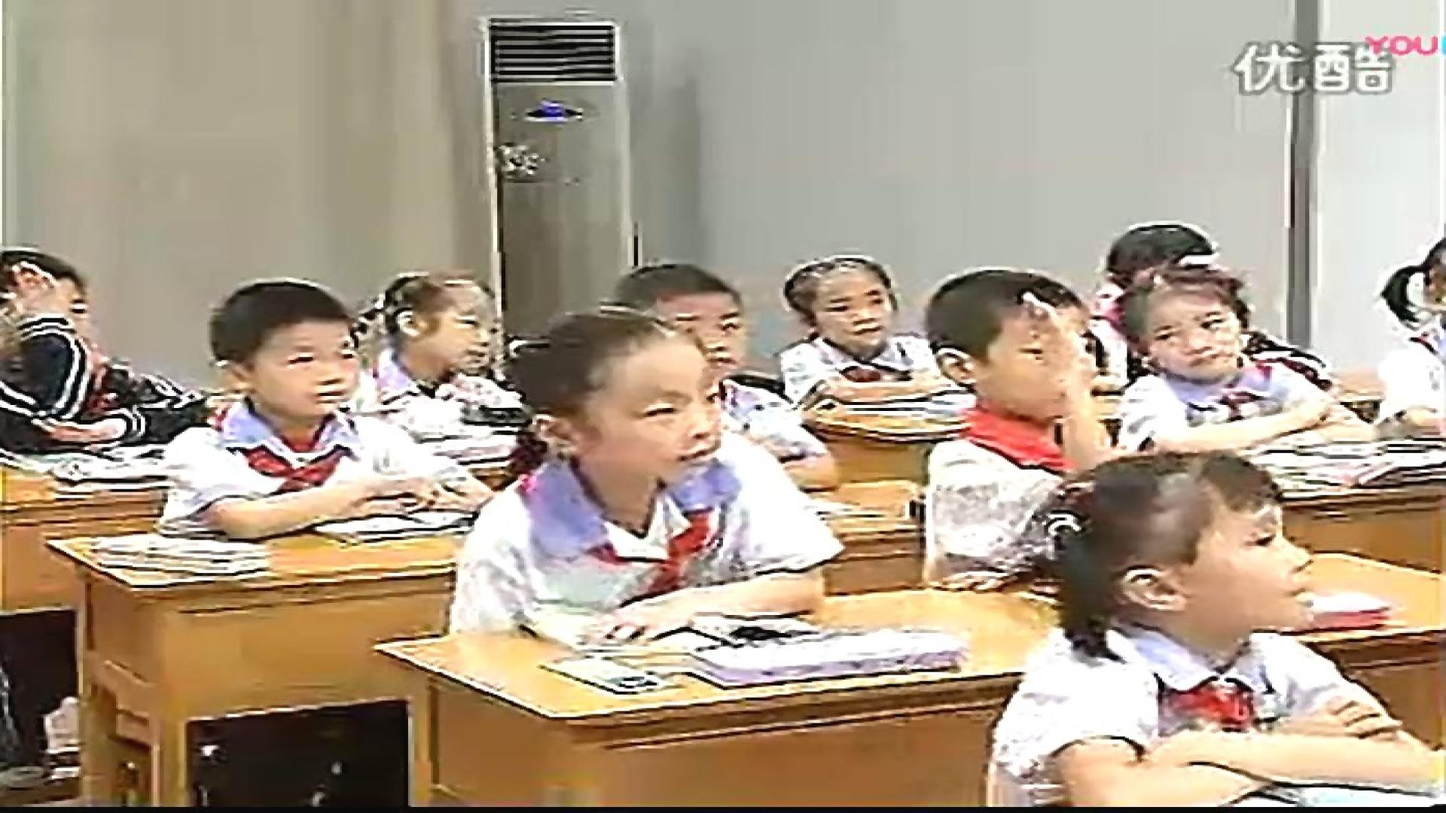Wave: (7, 263, 111, 434), (1024, 297, 1110, 464)
